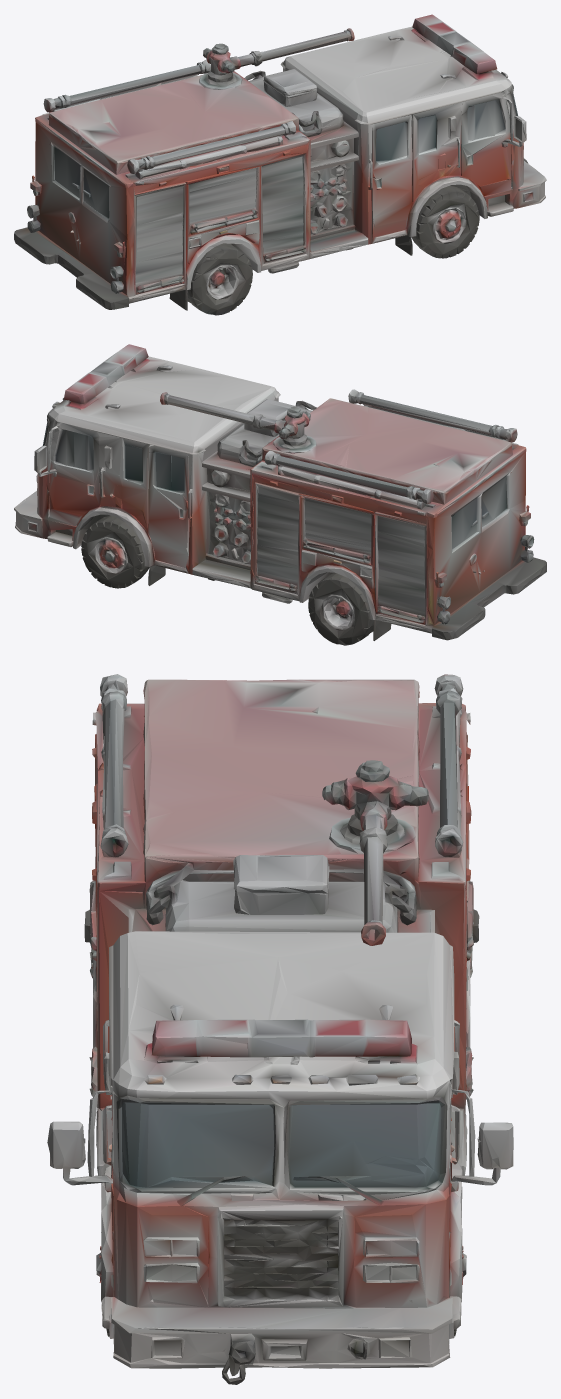
The model's file is firetruck_a.glb.
The picture shows the model from 3 angles, top to bottom: view 1: azimuth 30°, elevation 25°; view 2: azimuth 150°, elevation 25°; view 3: azimuth 270°, elevation 25°; orthographic projection. The views are drawn at different scales.
Visible parts, largest first — view 1: tripo_node_66342464-d59f-4284-b855-12c99f59a19b; view 2: tripo_node_66342464-d59f-4284-b855-12c99f59a19b; view 3: tripo_node_66342464-d59f-4284-b855-12c99f59a19b.
Boxes of the visible parts, left/top/right/bottom form: tripo_node_66342464-d59f-4284-b855-12c99f59a19b: left=14, top=14, right=546, bottom=315; tripo_node_66342464-d59f-4284-b855-12c99f59a19b: left=14, top=344, right=546, bottom=645; tripo_node_66342464-d59f-4284-b855-12c99f59a19b: left=47, top=674, right=513, bottom=1384.
Size of the model in its own units: 0.9812 by 0.4189 by 0.4329.
